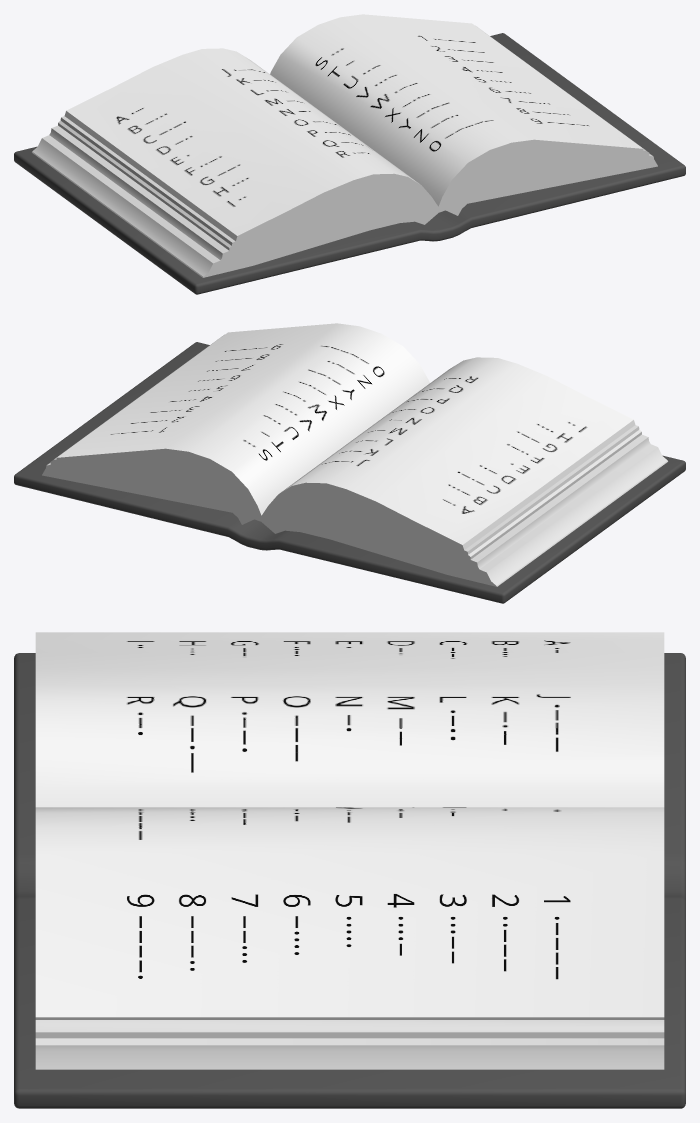
The model's file is book_morse.fbx.
3 views of the same model, one above another, from view 1: azimuth 30°, elevation 25°; view 2: azimuth 150°, elevation 25°; view 3: azimuth 270°, elevation 25° (orthographic). The views are drawn at different scales.
Visible parts, largest first — view 1: Vert; view 2: Vert; view 3: Vert.
Boxes of the visible parts, left/top/right/bottom form: Vert: left=14, top=14, right=685, bottom=294; Vert: left=14, top=323, right=685, bottom=603; Vert: left=14, top=632, right=685, bottom=1108.
Size of the model in its own units: 480 by 72.96 by 310.
